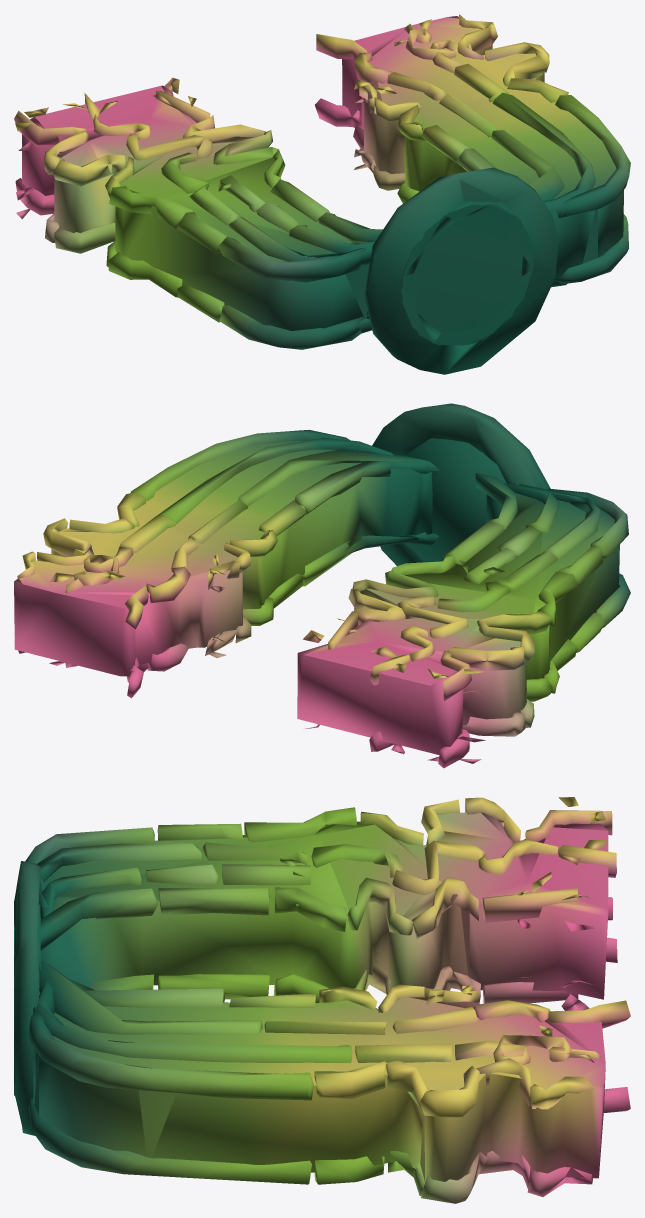
The model's file is mesh_lod_1_e62aacea-18f0-56c2-86c5-de7b3e8ff5c5.glb.
3 renders of one model, top to bottom at view 1: azimuth 30°, elevation 25°; view 2: azimuth 150°, elevation 25°; view 3: azimuth 270°, elevation 25°, orthographic. The views are drawn at different scales.
Visible parts, largest first — view 1: LOD 1_e62aacea-18f0-56c2-86c5-de7b3e8ff5c5; view 2: LOD 1_e62aacea-18f0-56c2-86c5-de7b3e8ff5c5; view 3: LOD 1_e62aacea-18f0-56c2-86c5-de7b3e8ff5c5.
Part boxes in pixels (x1,y1,x2,y2): LOD 1_e62aacea-18f0-56c2-86c5-de7b3e8ff5c5: (14,14,630,374); LOD 1_e62aacea-18f0-56c2-86c5-de7b3e8ff5c5: (14,403,630,768); LOD 1_e62aacea-18f0-56c2-86c5-de7b3e8ff5c5: (14,797,630,1203).
Bounding box in the file's own units: 14.67 × 5.7 × 12.62.
